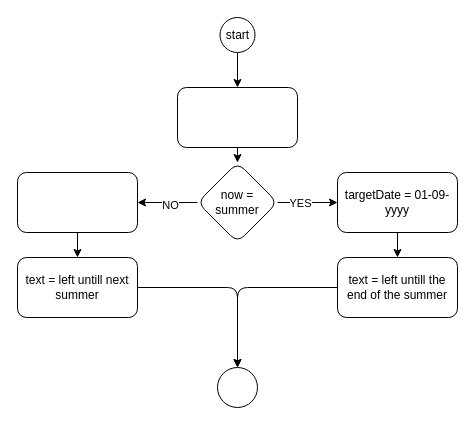
Image size: 475x425. Some labels were removed from this diagram. Here are the shapes that lost their labels. From the top down, the box of each, then its label:
(176, 86, 298, 148): now
(16, 172, 138, 232): targetDate = 01-06-yyyy
(216, 366, 258, 408): end
